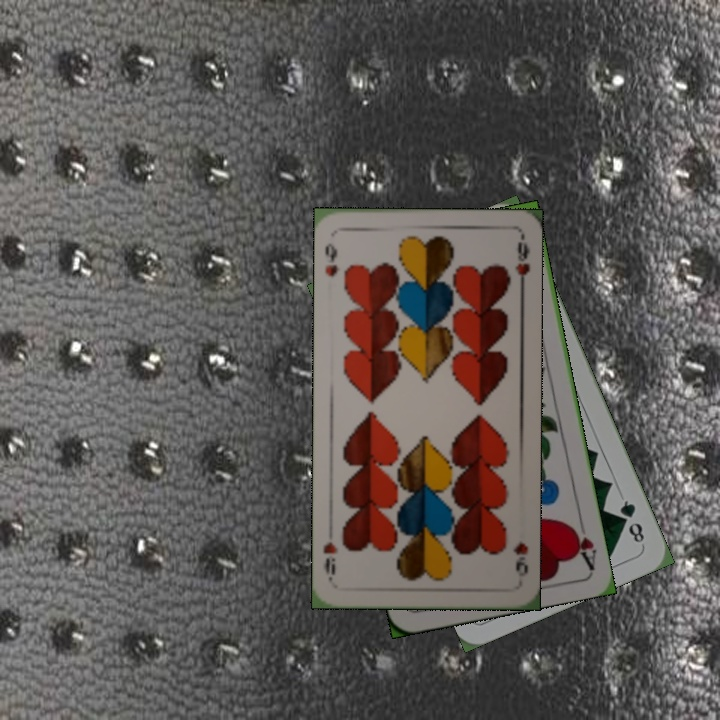G8: (615, 496, 647, 546)
H9: (509, 536, 531, 579), (321, 239, 341, 279)
HA: (566, 513, 599, 572)
